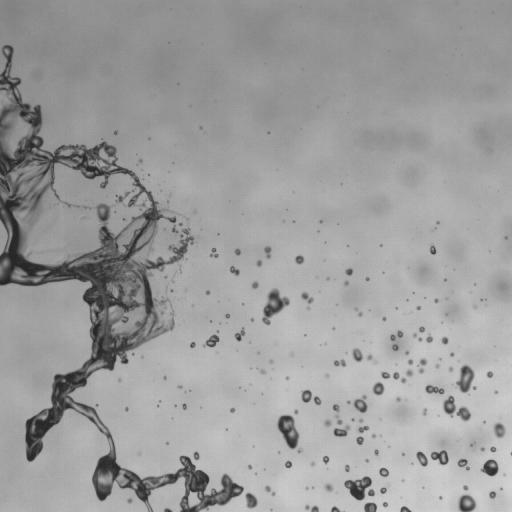droplet: (262, 288, 289, 325), (344, 476, 374, 500), (455, 364, 476, 393), (458, 494, 476, 511), (481, 459, 498, 476), (430, 450, 448, 465), (354, 395, 367, 412), (203, 334, 219, 347), (493, 422, 505, 438), (245, 492, 257, 508), (333, 425, 350, 436), (416, 451, 428, 466), (372, 382, 384, 395), (234, 328, 245, 341), (352, 348, 362, 362), (301, 292, 313, 303), (457, 459, 469, 469), (364, 502, 377, 511), (379, 467, 388, 477), (357, 425, 368, 433), (264, 246, 271, 258), (295, 255, 304, 264), (230, 266, 239, 275), (334, 359, 345, 366), (210, 248, 218, 257), (324, 483, 333, 491), (429, 244, 436, 254), (356, 435, 363, 445), (345, 268, 353, 275), (251, 281, 258, 289), (441, 337, 448, 344), (324, 419, 331, 426), (322, 456, 329, 463), (426, 334, 432, 342), (406, 369, 412, 376), (193, 452, 199, 459), (285, 461, 291, 468), (380, 486, 386, 493), (489, 491, 495, 498), (256, 260, 262, 266), (392, 344, 398, 350), (486, 371, 492, 377), (490, 446, 496, 452), (259, 369, 266, 374), (83, 206, 91, 210), (235, 249, 240, 255), (419, 326, 424, 332), (408, 359, 413, 365), (422, 408, 426, 415), (190, 342, 195, 347), (463, 485, 468, 490), (127, 498, 132, 503), (382, 502, 387, 507), (182, 403, 186, 409), (374, 449, 378, 455), (345, 465, 349, 471), (434, 298, 438, 303), (448, 367, 453, 371), (230, 407, 234, 412), (294, 409, 298, 414), (344, 281, 348, 285), (225, 314, 229, 318), (382, 317, 386, 321), (412, 333, 416, 337), (418, 337, 422, 341), (450, 352, 454, 356), (435, 364, 439, 368), (325, 374, 329, 378), (396, 397, 400, 401), (359, 418, 363, 422), (310, 462, 314, 466), (179, 222, 182, 226), (206, 290, 209, 294), (416, 306, 420, 309), (405, 351, 409, 354), (481, 447, 484, 451), (248, 465, 251, 469), (114, 131, 117, 134), (139, 159, 142, 162), (164, 275, 167, 278), (366, 277, 369, 280), (285, 376, 288, 379), (178, 385, 181, 388), (125, 407, 128, 410), (372, 434, 375, 437), (75, 205, 78, 207), (251, 318, 253, 321), (270, 360, 272, 363), (495, 390, 497, 393), (347, 401, 350, 403), (366, 459, 368, 462), (439, 496, 441, 499), (50, 205, 52, 207), (54, 204, 56, 206), (474, 306, 476, 308), (471, 443, 473, 445), (503, 473, 505, 475), (306, 487, 308, 489)
ligament: (0, 45, 243, 511), (277, 414, 301, 452), (442, 395, 470, 421), (301, 389, 321, 405), (381, 372, 406, 383), (332, 404, 342, 424), (425, 384, 444, 394), (390, 330, 403, 340), (418, 358, 426, 373), (265, 485, 275, 495), (305, 504, 319, 511), (367, 354, 376, 364), (330, 506, 342, 511), (355, 308, 362, 316), (400, 506, 411, 511), (163, 508, 172, 511)
